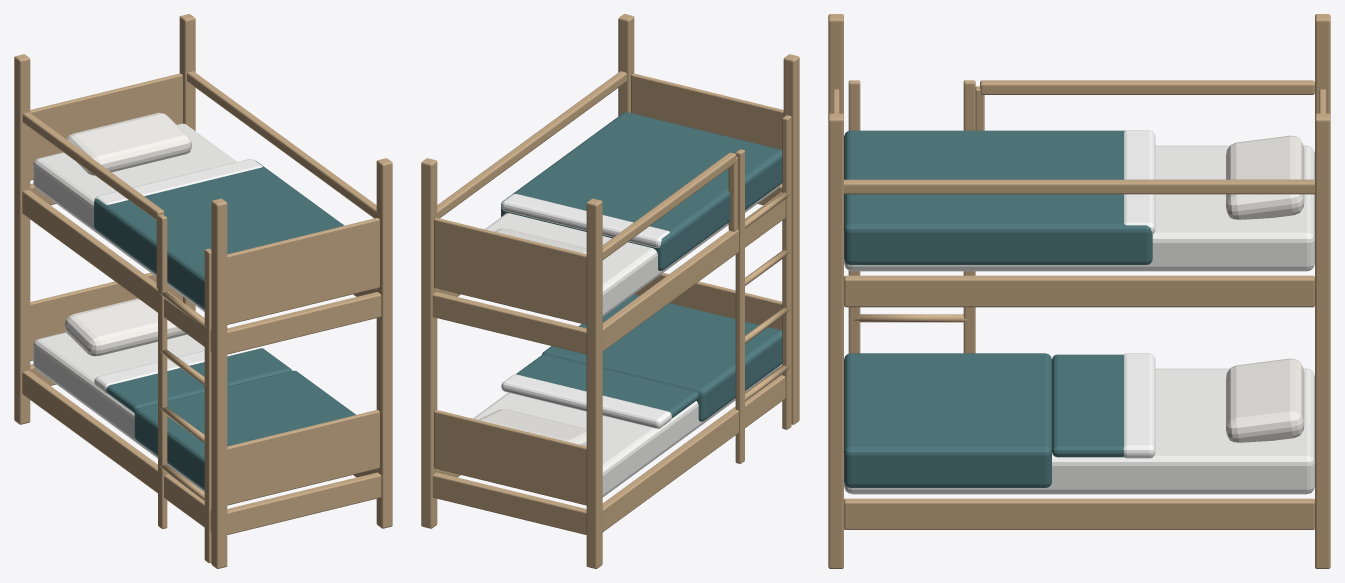
File: bedBunk.glb
The picture shows the model from 3 angles, left to right: view 1: azimuth 30°, elevation 25°; view 2: azimuth 150°, elevation 25°; view 3: azimuth 270°, elevation 25°; orthographic projection. The views are drawn at different scales.
Visible parts, largest first — view 1: bedBunk, duvet_flap; view 2: bedBunk, duvet_flap; view 3: bedBunk, duvet_flap.
Boxes of the visible parts, <box> form: bedBunk: <box>14,14,392,568</box>; duvet_flap: <box>94,346,291,412</box>; bedBunk: <box>421,14,799,568</box>; duvet_flap: <box>501,354,699,428</box>; bedBunk: <box>828,14,1330,568</box>; duvet_flap: <box>1052,353,1155,458</box>.
Bounding box in the file's own units: 0.961 × 1.9 × 1.92.
